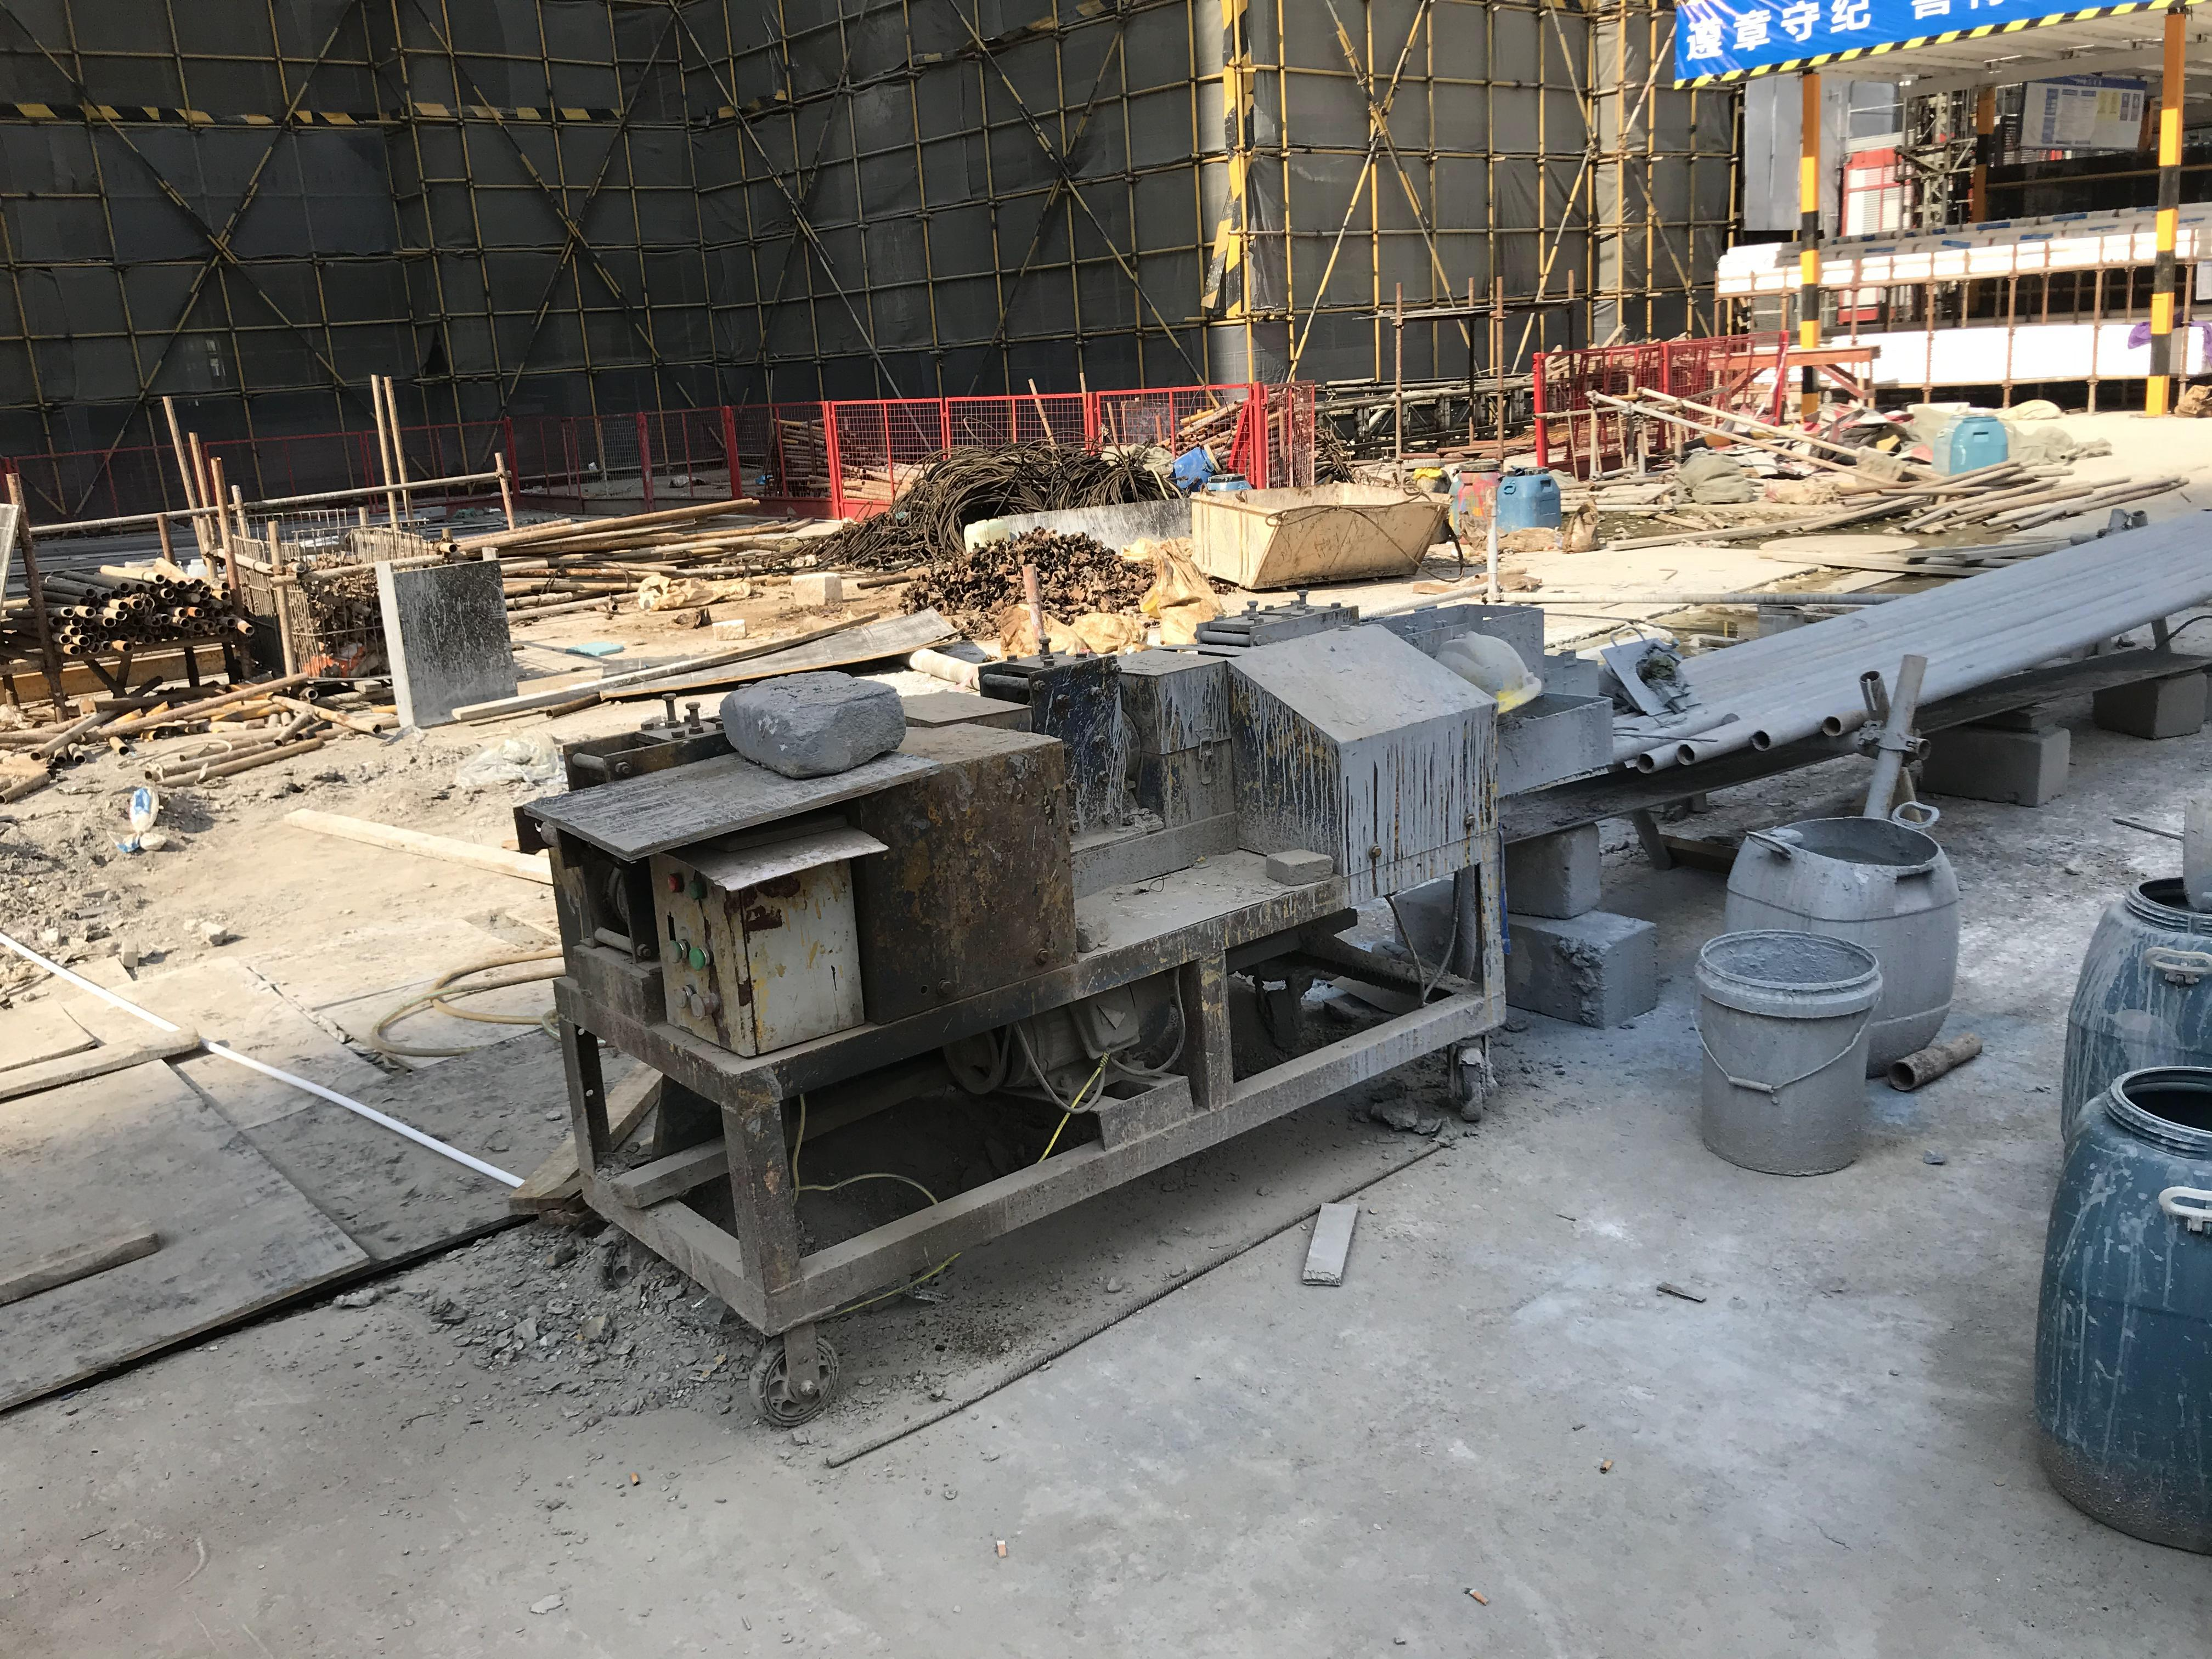cutter: (514, 601, 1501, 1431)
fence: (610, 403, 892, 525), (1533, 349, 1782, 462), (1137, 394, 1322, 479)
hopper: (1181, 483, 1453, 589)
slogan: (1679, 3, 2064, 54)
